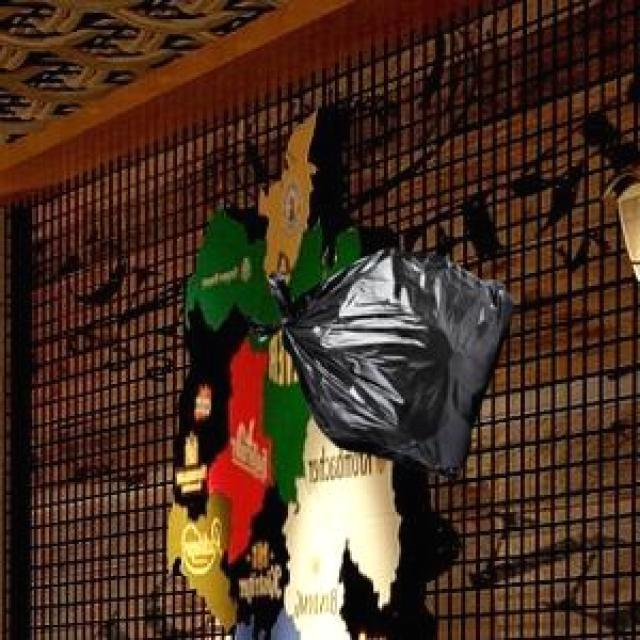Trashbag: (251, 241, 518, 489)
